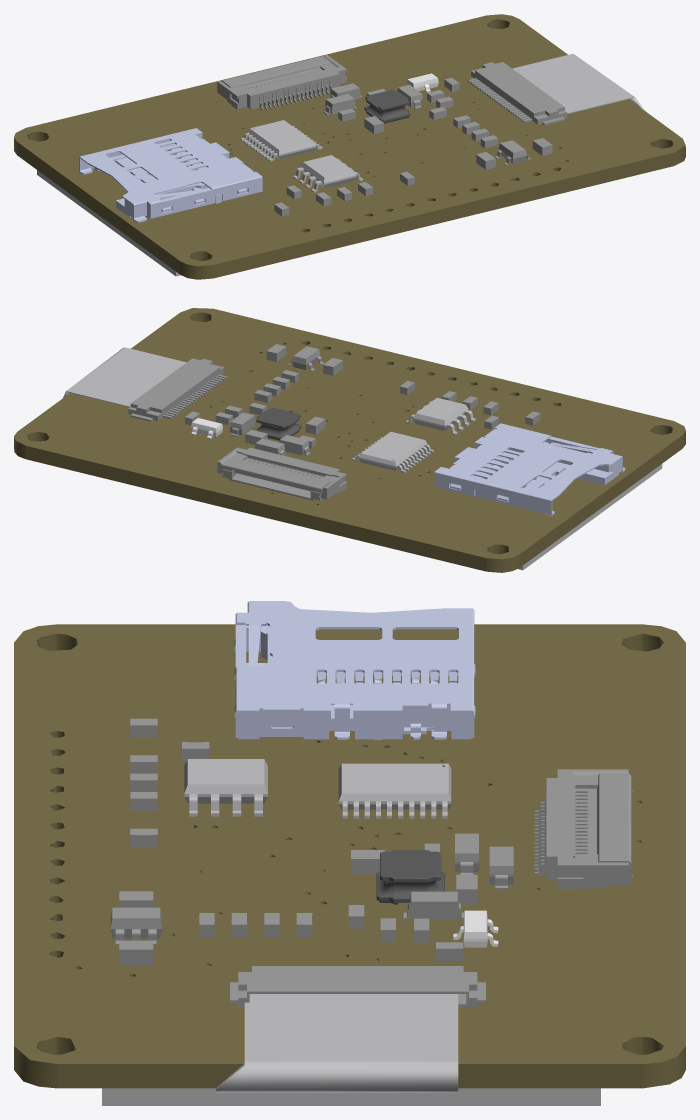
File: ada-6366.glb
3 views of the same model, one above another, from view 1: azimuth 30°, elevation 25°; view 2: azimuth 150°, elevation 25°; view 3: azimuth 270°, elevation 25° (orthographic). The views are drawn at different scales.
Visible parts, largest first — view 1: 0.16666666666666666_0.16666666666666666_0.08333333333333333_, 0.3333333333333333_0.3333333333333333_0.3333333333333333_0, 0.5833333333333334_0.6666666666666666_0.8333333333333334_0, 0.5833333333333334_0.5833333333333334_0.5833333333333334_0.8, 0.08333333333333333_0.08333333333333333_0.08333333333333333_, 0.9166666666666666_0.9166666666666666_0.9166666666666666_0.8; view 2: 0.16666666666666666_0.16666666666666666_0.08333333333333333_, 0.3333333333333333_0.3333333333333333_0.3333333333333333_0, 0.5833333333333334_0.6666666666666666_0.8333333333333334_0, 0.5833333333333334_0.5833333333333334_0.5833333333333334_0.8, 0.08333333333333333_0.08333333333333333_0.08333333333333333_, 0.9166666666666666_0.9166666666666666_0.9166666666666666_0.8; view 3: 0.16666666666666666_0.16666666666666666_0.08333333333333333_, 0.5833333333333334_0.5833333333333334_0.5833333333333334_0.8, 0.3333333333333333_0.3333333333333333_0.3333333333333333_0, 0.5833333333333334_0.6666666666666666_0.8333333333333334_0, 0.08333333333333333_0.08333333333333333_0.08333333333333333_, 0.9166666666666666_0.9166666666666666_0.9166666666666666_0.8.
Boxes of the visible parts, x1,y1,x2,y2 form: 0.16666666666666666_0.16666666666666666_0.08333333333333333_: (14,14,685,279); 0.3333333333333333_0.3333333333333333_0.3333333333333333_0: (217,55,567,216); 0.5833333333333334_0.6666666666666666_0.8333333333333334_0: (79,128,262,222); 0.5833333333333334_0.5833333333333334_0.5833333333333334_0.8: (37,53,644,276); 0.08333333333333333_0.08333333333333333_0.08333333333333333_: (364,89,410,123); 0.9166666666666666_0.9166666666666666_0.9166666666666666_0.8: (407,73,438,92); 0.16666666666666666_0.16666666666666666_0.08333333333333333_: (14,308,685,572); 0.3333333333333333_0.3333333333333333_0.3333333333333333_0: (128,344,540,501); 0.5833333333333334_0.6666666666666666_0.8333333333333334_0: (434,423,625,515); 0.5833333333333334_0.5833333333333334_0.5833333333333334_0.8: (63,347,662,570); 0.08333333333333333_0.08333333333333333_0.08333333333333333_: (256,407,301,440); 0.9166666666666666_0.9166666666666666_0.9166666666666666_0.8: (191,418,222,439); 0.16666666666666666_0.16666666666666666_0.08333333333333333_: (14,624,685,1088); 0.5833333333333334_0.5833333333333334_0.5833333333333334_0.8: (102,759,600,1105); 0.3333333333333333_0.3333333333333333_0.3333333333333333_0: (110,718,632,1007); 0.5833333333333334_0.6666666666666666_0.8333333333333334_0: (234,601,475,739); 0.08333333333333333_0.08333333333333333_0.08333333333333333_: (376,850,444,904); 0.9166666666666666_0.9166666666666666_0.9166666666666666_0.8: (453,910,498,947).
Size of the model in its own units: 6.2 by 0.4998 by 3.94.
